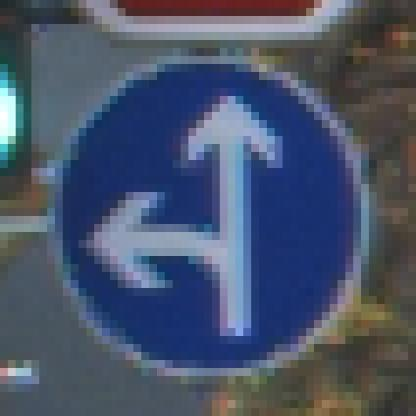Straight or Left: (40, 41, 378, 377)
